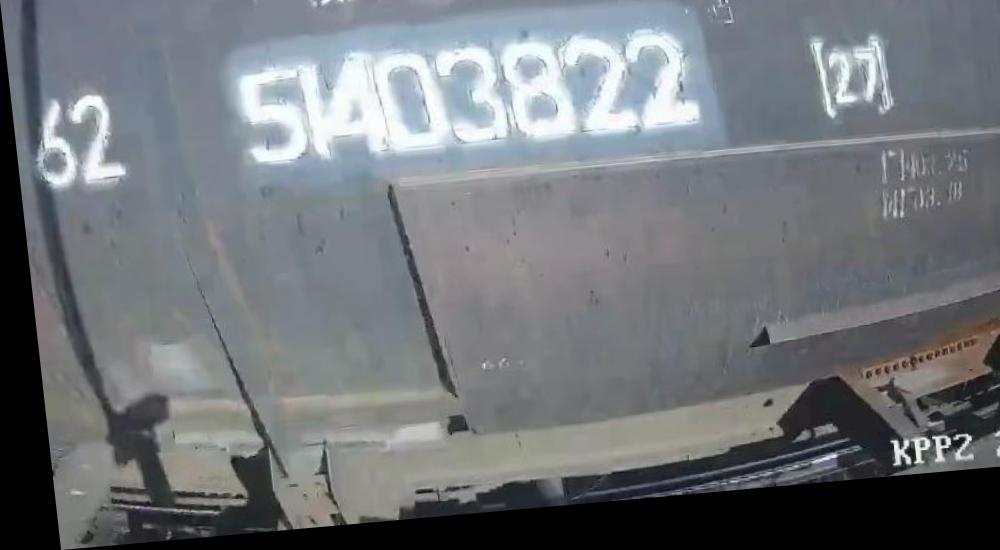Wagon-number: (228, 27, 709, 180)
